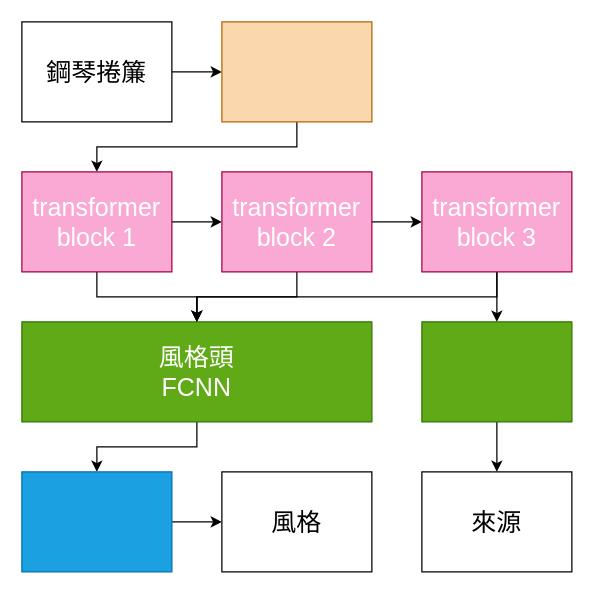
Image size: 594x594. Some labels were removed from this diagram. The box of each missing label's shape, as (x1, y1, x2, y2) in pixels:
1D CNN 平滑化輸出: (21, 471, 172, 572)
Embedding: (221, 21, 372, 122)
來源頭 FCNN: (421, 321, 572, 422)
